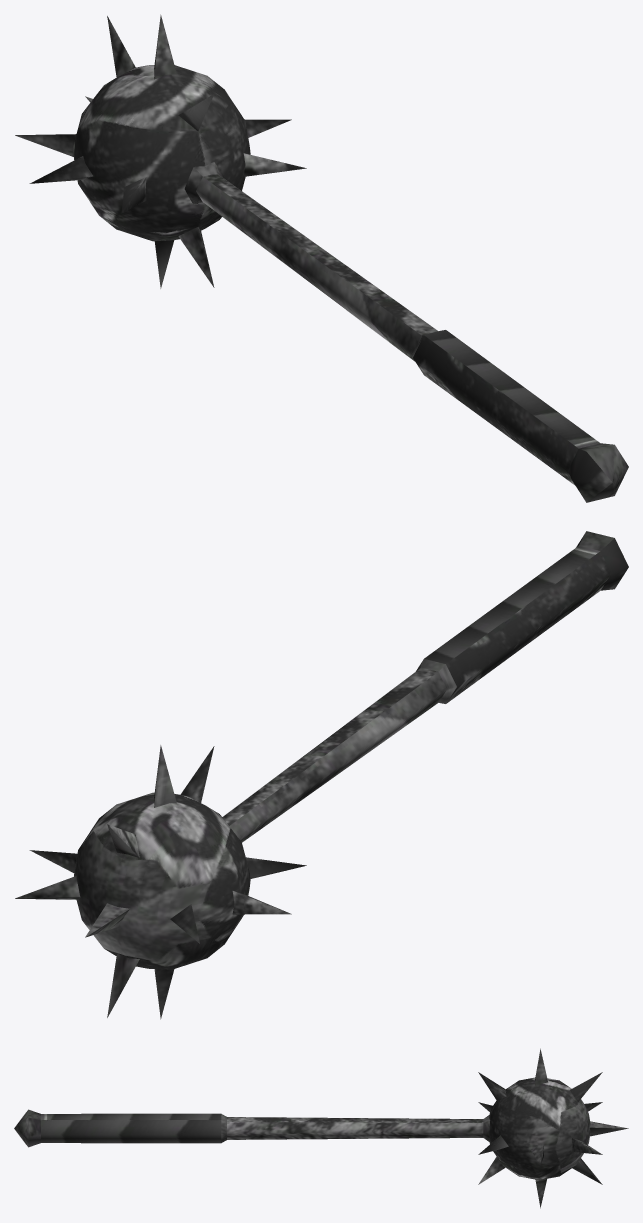
The picture shows the model from 3 angles, top to bottom: view 1: azimuth 30°, elevation 25°; view 2: azimuth 150°, elevation 25°; view 3: azimuth 270°, elevation 25°; orthographic projection. The views are drawn at different scales.
Visible parts, largest first — view 1: mesh_0; view 2: mesh_0; view 3: mesh_0.
Boxes of the visible parts, x1=… form: mesh_0: x1=15, y1=14, x2=628, y2=502; mesh_0: x1=15, y1=531, x2=628, y2=1019; mesh_0: x1=14, y1=1048, x2=628, y2=1208.
Bounding box in the file's own units: 9.91 × 9.91 × 34.45.
1 material, 1 textured.
